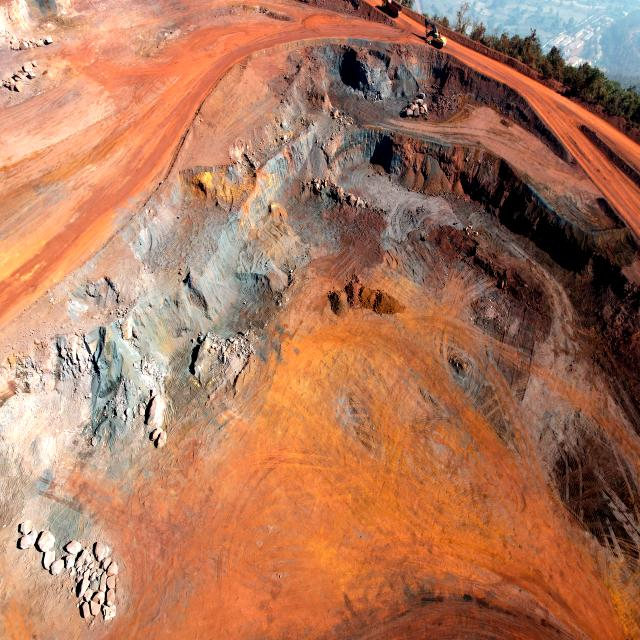Dumper truck: (381, 0, 403, 16)
Excavator: (423, 18, 447, 47)
